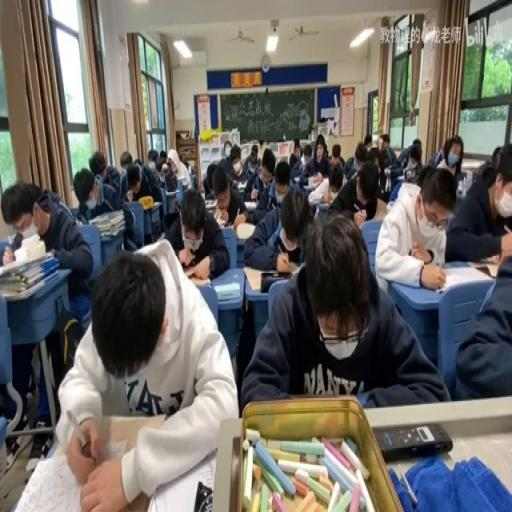calculator: (149, 444, 219, 509), (240, 260, 298, 289), (436, 265, 491, 290), (89, 208, 126, 238), (213, 282, 241, 300), (235, 222, 256, 240), (474, 253, 500, 265), (186, 272, 211, 284), (213, 206, 228, 225), (314, 199, 330, 215), (286, 257, 302, 273), (306, 175, 320, 189), (204, 196, 217, 208), (232, 181, 248, 189), (243, 201, 256, 209), (74, 216, 82, 225), (293, 176, 300, 184), (395, 174, 405, 179)
paper: (58, 240, 236, 508), (241, 212, 443, 412), (2, 179, 92, 297), (446, 141, 512, 260), (164, 185, 230, 280), (244, 179, 311, 270), (326, 156, 379, 225), (123, 160, 163, 238), (89, 148, 121, 196), (437, 135, 465, 188), (219, 141, 248, 185), (394, 136, 420, 175), (378, 134, 397, 166), (203, 161, 219, 196), (421, 145, 443, 169), (330, 142, 346, 171), (368, 146, 382, 176), (261, 148, 275, 176), (416, 165, 434, 186), (118, 148, 132, 171), (354, 145, 368, 168), (163, 169, 176, 192), (290, 136, 300, 164), (491, 145, 502, 168), (154, 152, 166, 172), (302, 142, 312, 164), (178, 151, 188, 168), (363, 132, 371, 148), (413, 149, 420, 162), (157, 169, 164, 182), (133, 158, 142, 168), (250, 148, 256, 162), (224, 144, 230, 155)
person: (373, 420, 453, 460)
